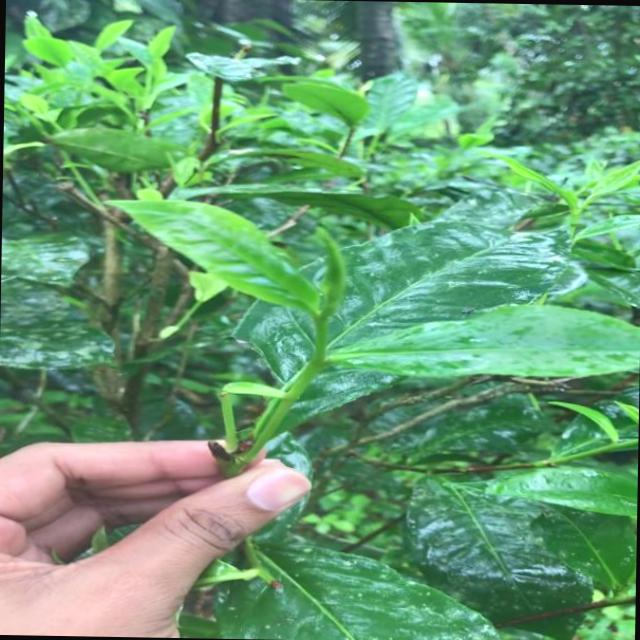Stem: (291, 360, 324, 394), (570, 212, 579, 228)
